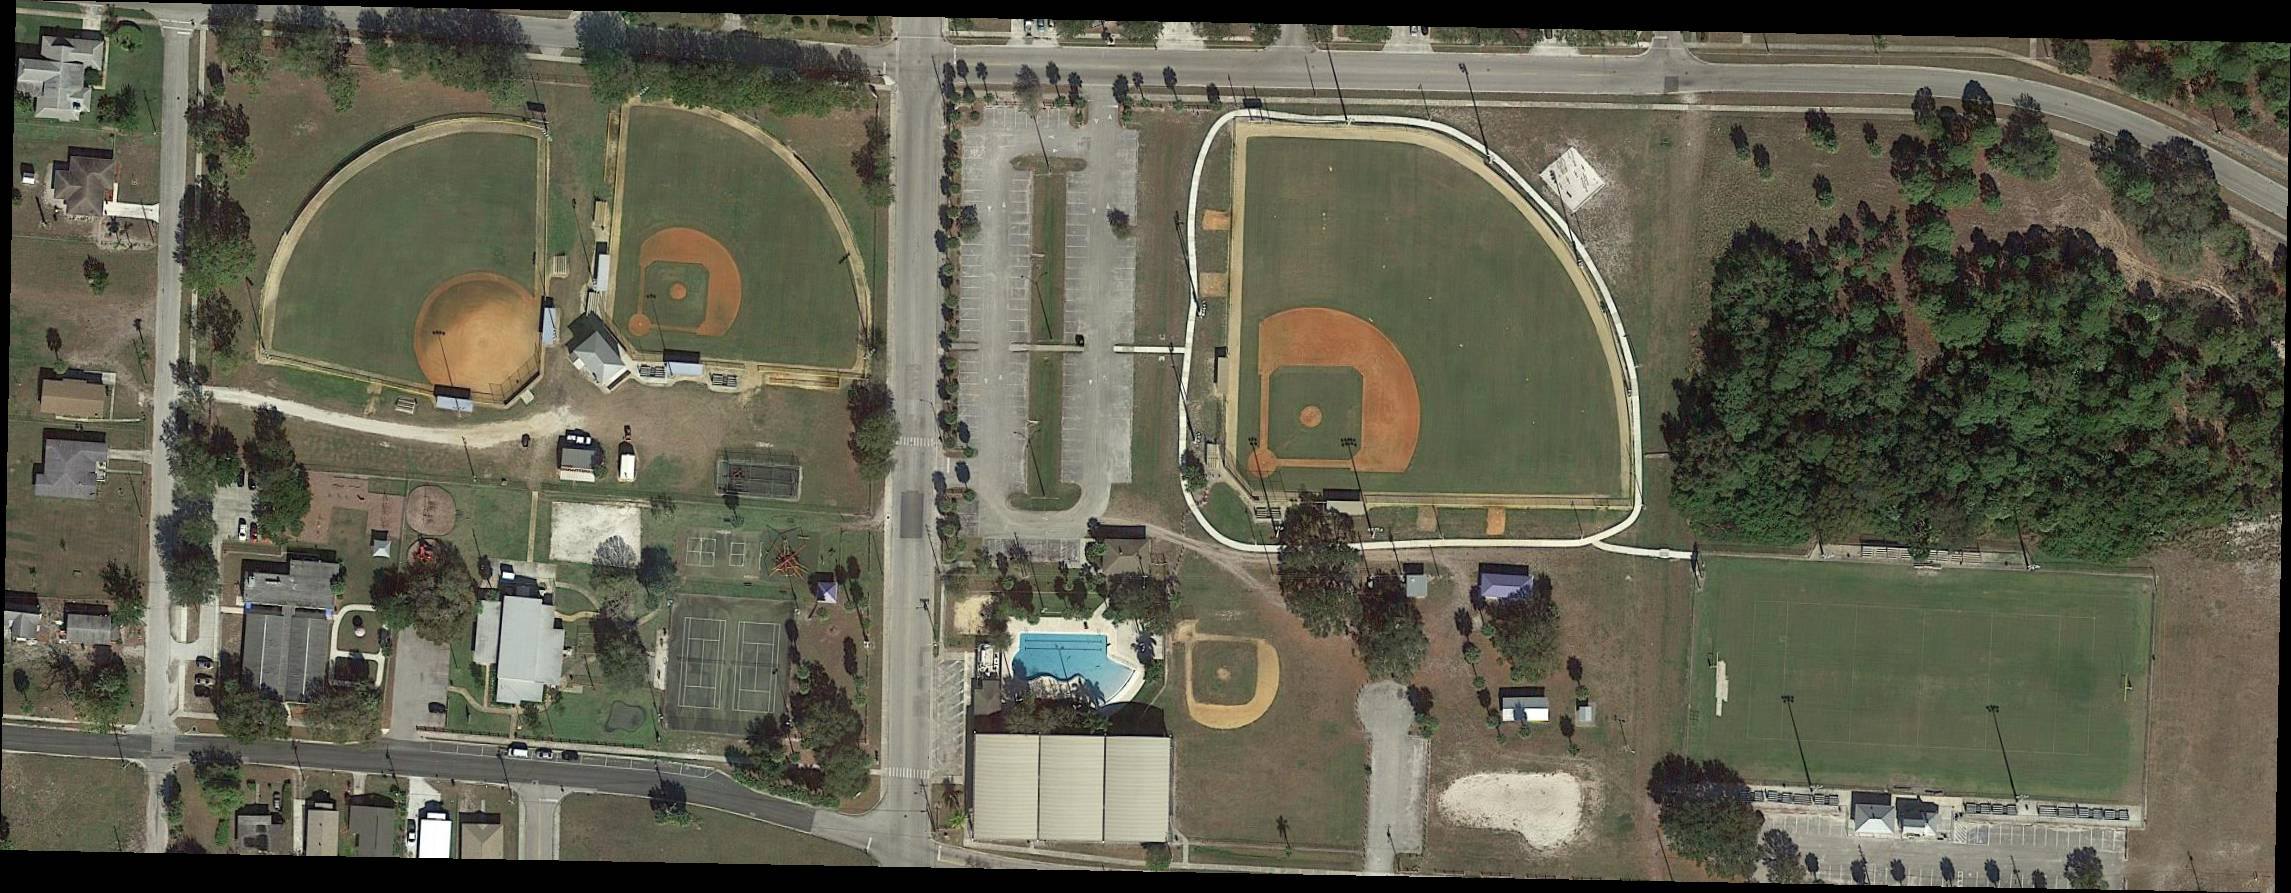baseball diamond: (1264, 308, 1425, 472), (408, 265, 536, 377), (641, 227, 750, 339), (1189, 637, 1283, 731)
soccer ball field: (1708, 574, 2136, 786)
swimming pool: (1010, 633, 1140, 704)
tennis court: (732, 623, 782, 713), (679, 618, 728, 710)
